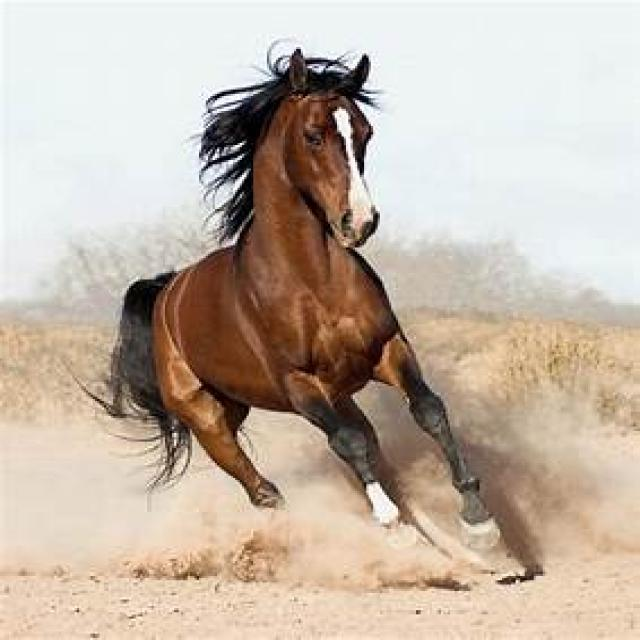animal: (66, 38, 516, 576)
